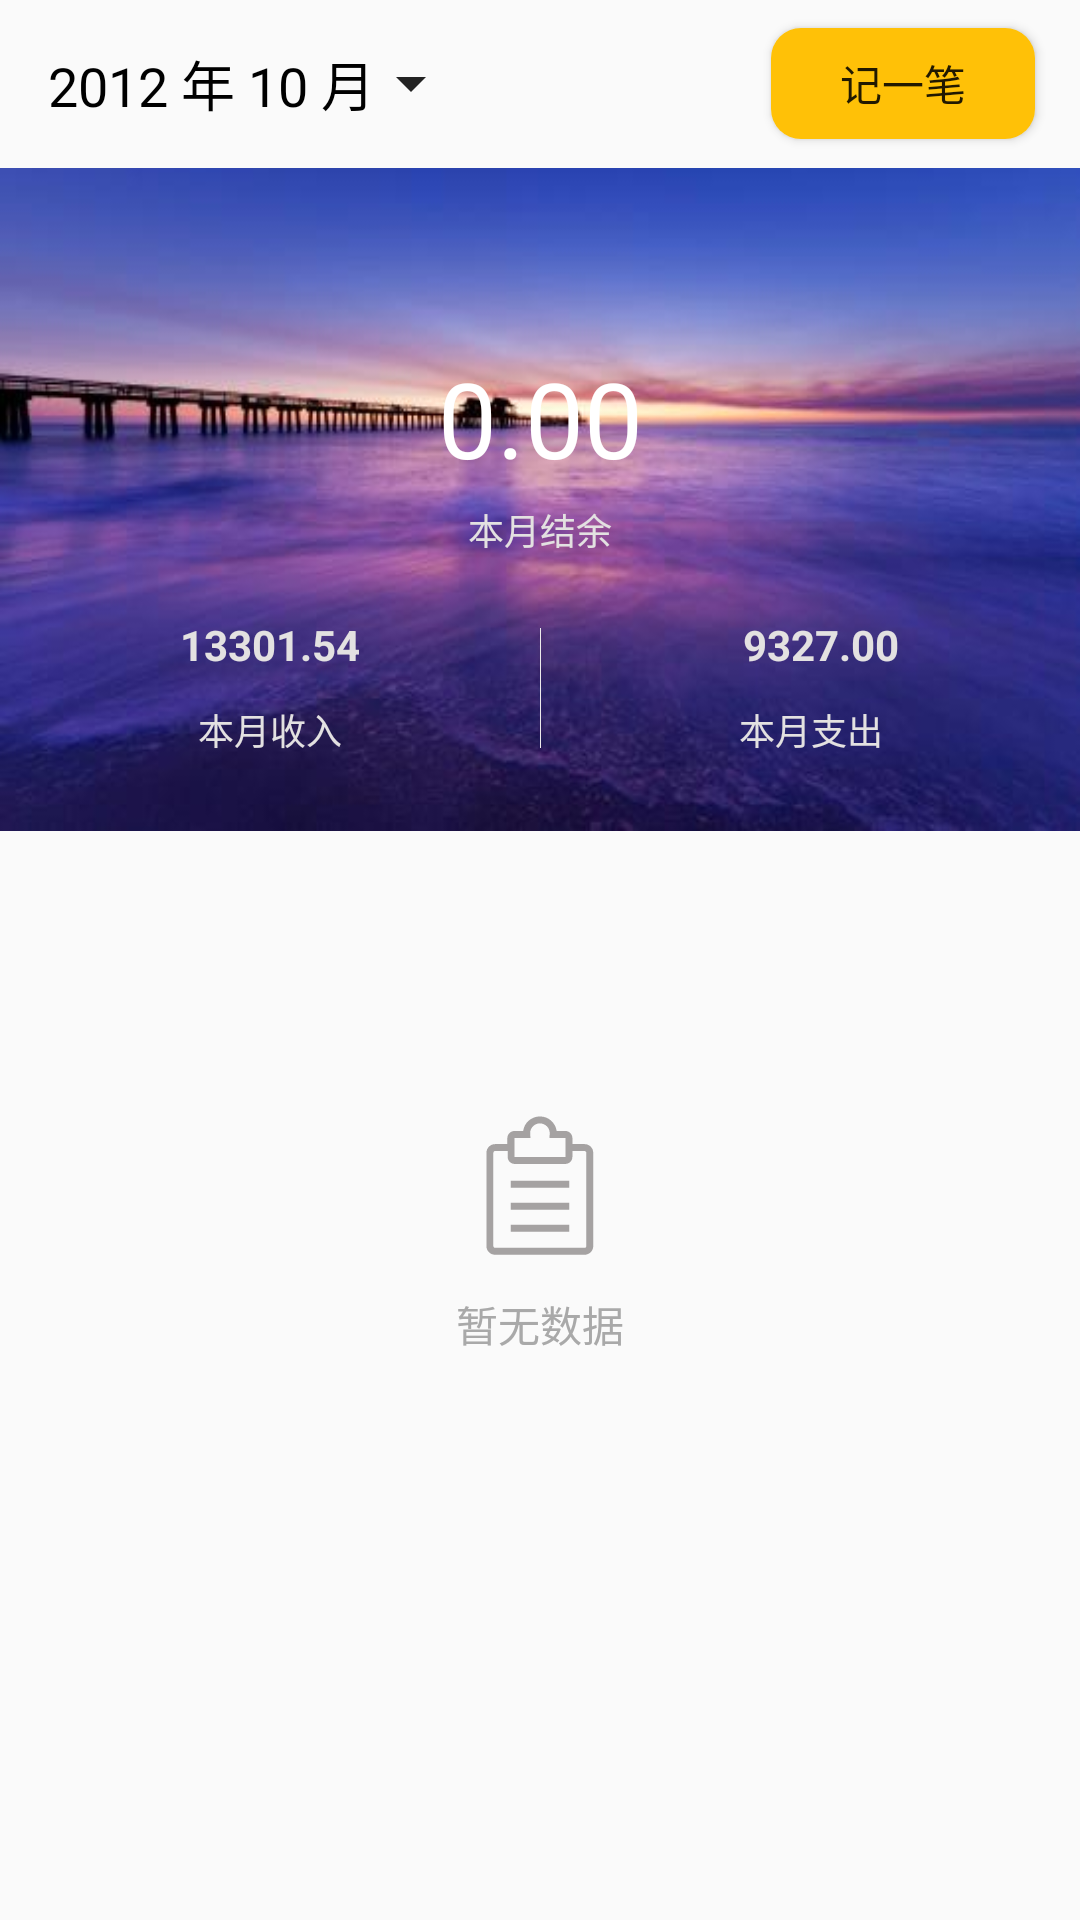

Icons on this 1080px x 1920px Android screen, each with its box as (x1, y1, x2, y2):
no data: (486, 1116, 593, 1255)
